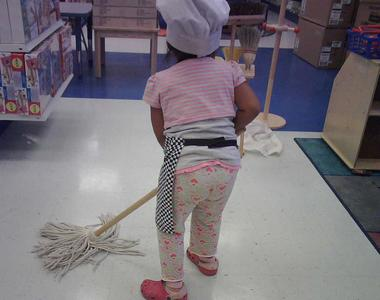person: (141, 2, 264, 300)
